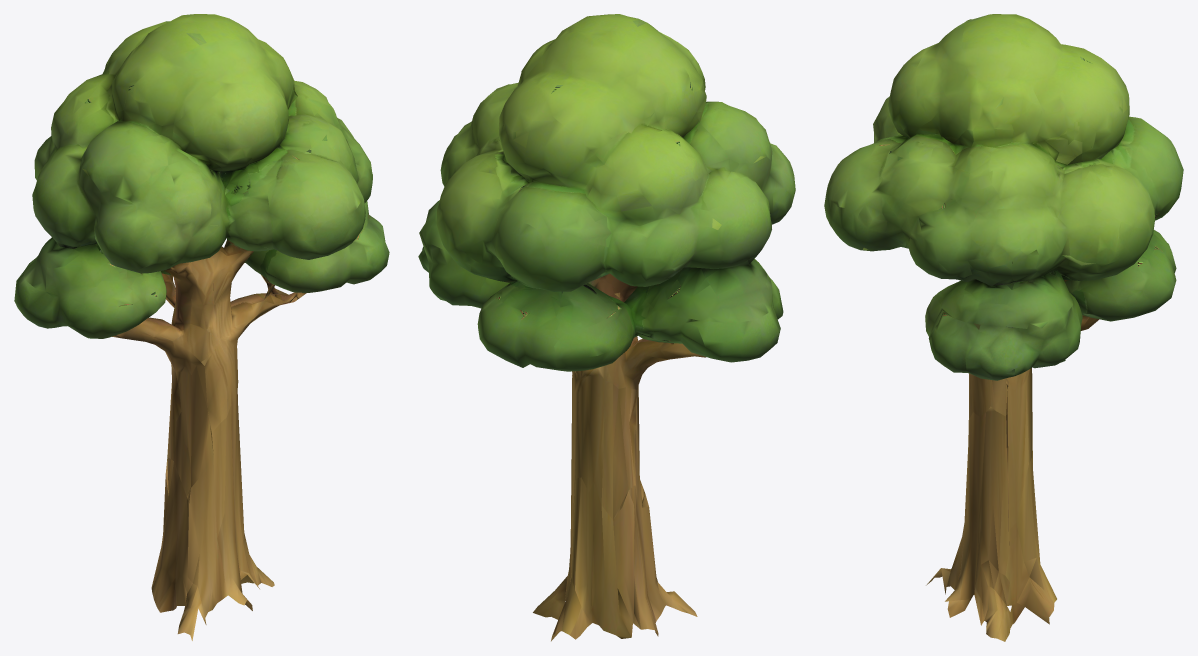
The model's file is tree-forest-meshy-lod5-under.glb.
3 views of the same model, side by side, from view 1: azimuth 30°, elevation 25°; view 2: azimuth 150°, elevation 25°; view 3: azimuth 270°, elevation 25° (orthographic). The views are drawn at different scales.
Parts seen in each view (by area): view 1: Mesh_0; view 2: Mesh_0; view 3: Mesh_0.
Part boxes in pixels (x1,y1,x2,y2): Mesh_0: (14, 14, 389, 640); Mesh_0: (418, 14, 795, 641); Mesh_0: (824, 14, 1183, 641).
Size of the model in its own units: 9.37 by 15.08 by 8.37.
Materials: 1 (1 with a texture image).
